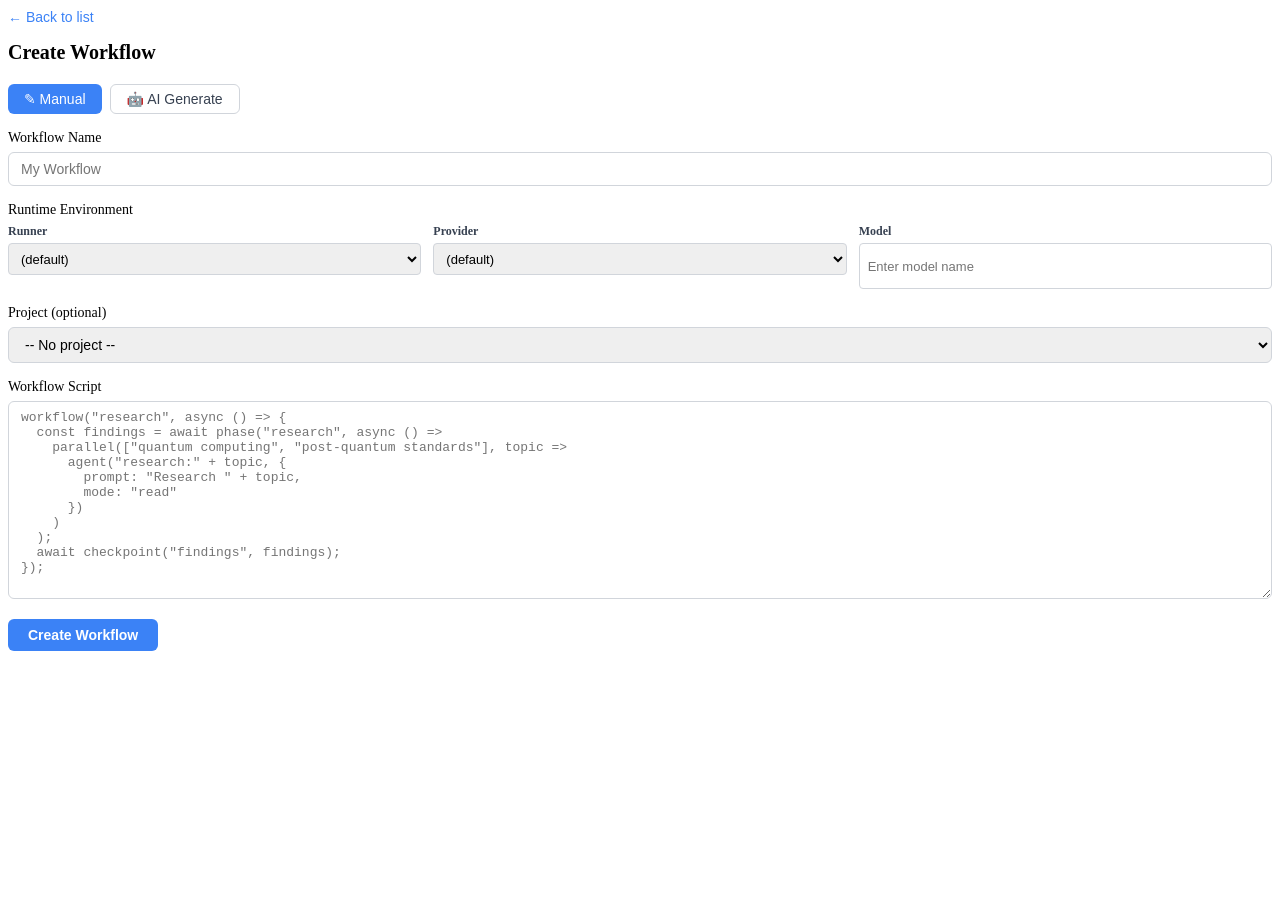
it: CreateWorkflowForm › shows error when submitting with empty name
The image size is (1280, 900).
Step 1. Click the button "Create Workflow" → (83, 635), box [8,619,158,651]
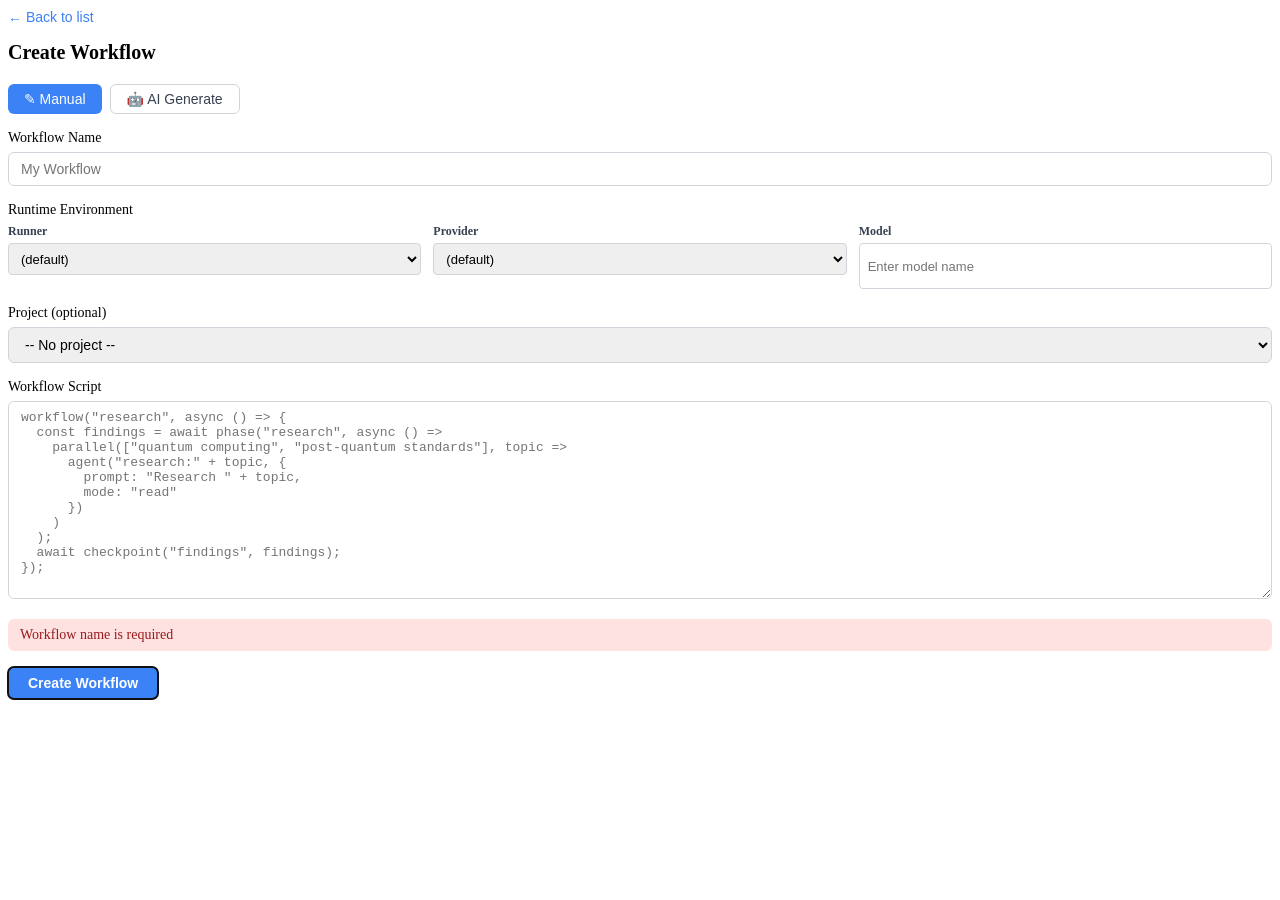
Expected: the text "Workflow name is required" is shown, [8,619,1272,651]
